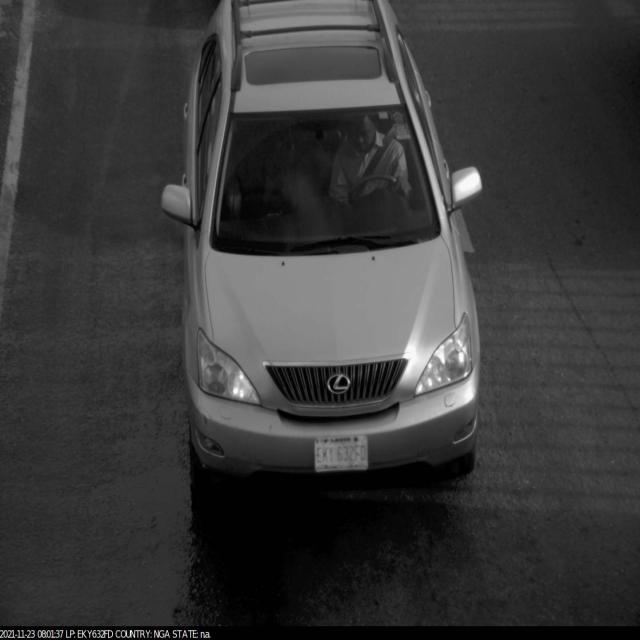windshield: (205, 100, 443, 257)
